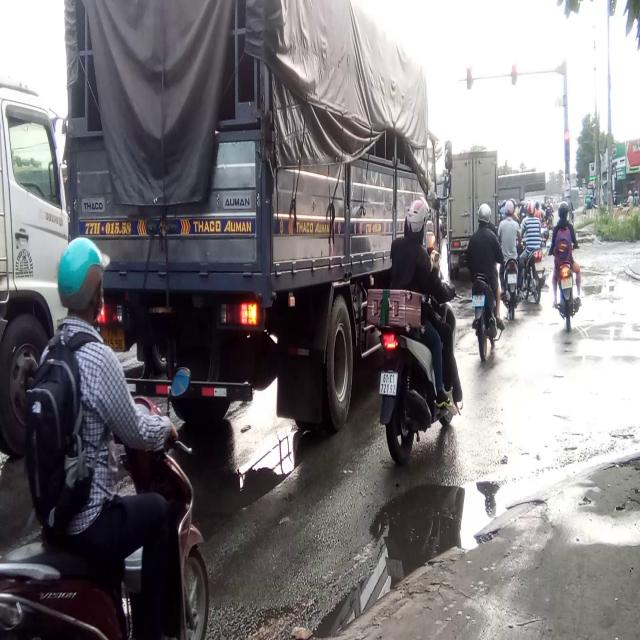bien_trang: (378, 368, 398, 401)
